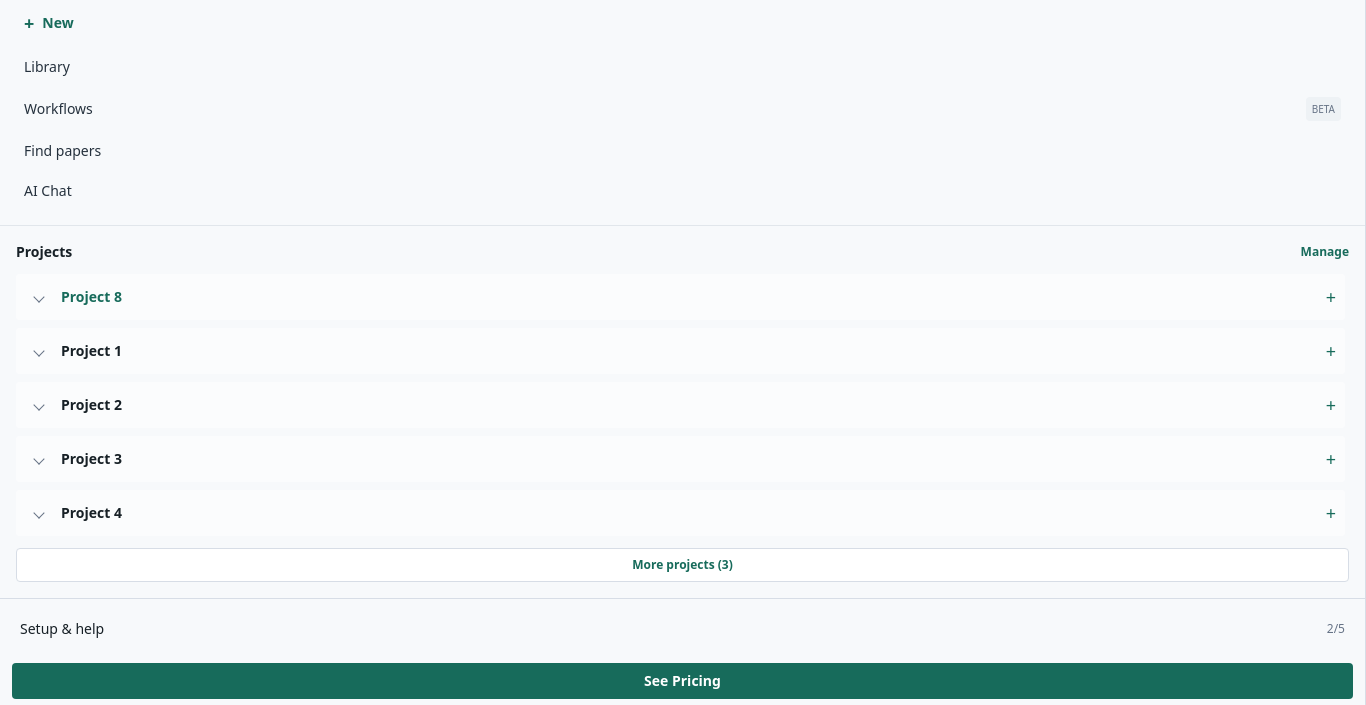
Scenario: shows a scrollable project subset and reveals more projects in batches
Check: the link "Project 8" is shown, box [61, 287, 122, 306]
Check: the link "Project 4" is shown, box [61, 503, 122, 522]
Step 1. Click the button "More projects (3)" → (682, 565), box [16, 548, 1349, 582]
(page scrolled)
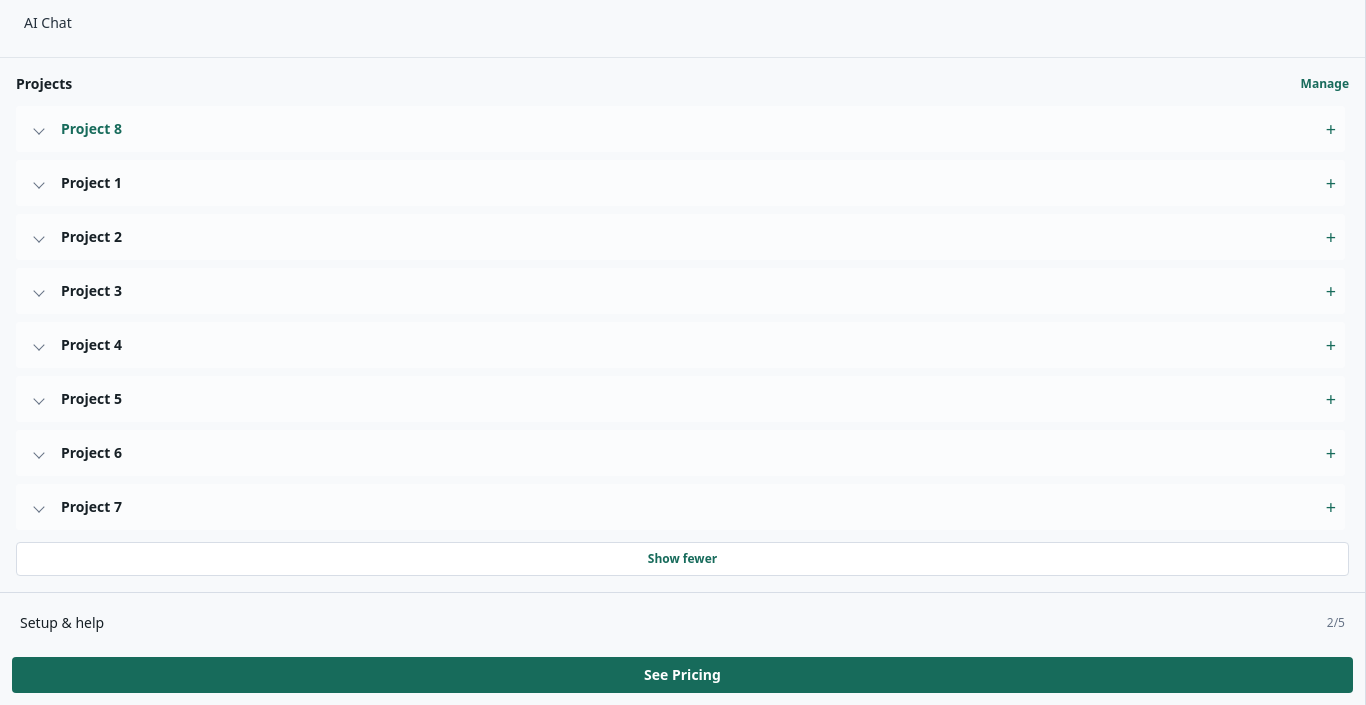
Check: the link "Project 7" is shown, box [61, 497, 122, 516]
Check: the button "Show fewer" is shown, box [16, 542, 1349, 576]
